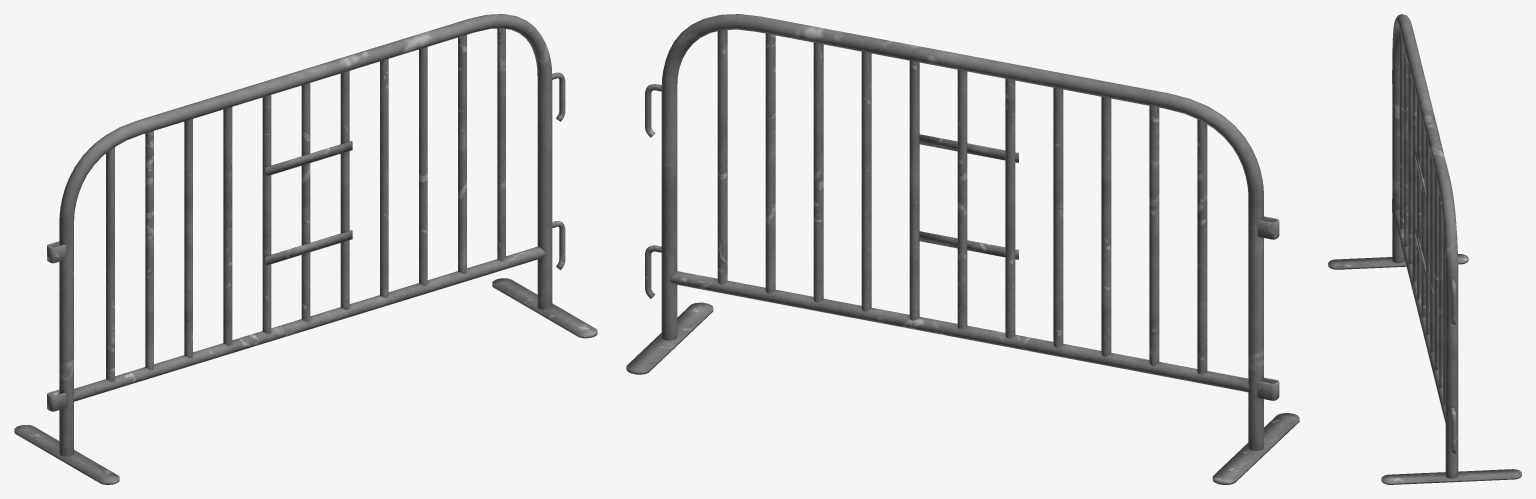
Rendered from crowd_fence.glb.
The picture shows the model from 3 angles, left to right: view 1: azimuth 30°, elevation 25°; view 2: azimuth 150°, elevation 25°; view 3: azimuth 270°, elevation 25°; orthographic projection. The views are drawn at different scales.
Parts seen in each view (by area): view 1: crowd_fence; view 2: crowd_fence; view 3: crowd_fence.
Part boxes in pixels (x1,y1,x2,y2): crowd_fence: (14,14,597,484); crowd_fence: (626,14,1299,484); crowd_fence: (1328,14,1521,484).
Bounding box in the file's own units: 2.02 × 1.1 × 0.7114.
1 material, 1 textured.
